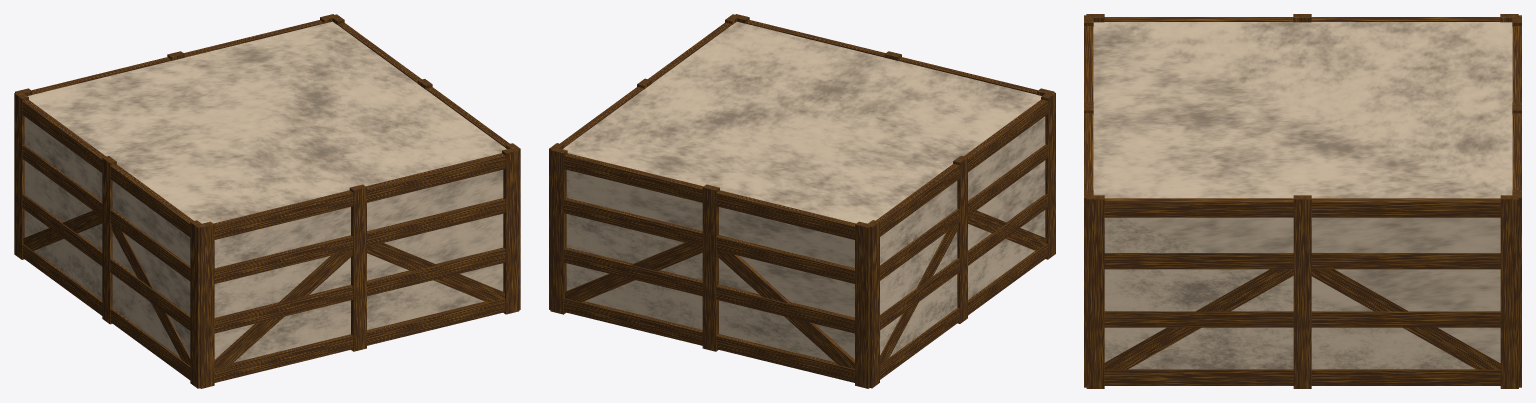
The model's file is Wall Small.fbx.
3 views of the same model, side by side, from view 1: azimuth 30°, elevation 25°; view 2: azimuth 150°, elevation 25°; view 3: azimuth 270°, elevation 25° (orthographic). The views are drawn at different scales.
Parts seen in each view (by area): view 1: Wall 1; view 2: Wall 1; view 3: Wall 1.
Boxes of the visible parts, x1,y1,x2,y2 form: Wall 1: [14, 14, 520, 388]; Wall 1: [549, 14, 1055, 388]; Wall 1: [1084, 14, 1521, 388].
Size of the model in its own units: 614 by 293 by 613.
2 materials, 2 textured.
